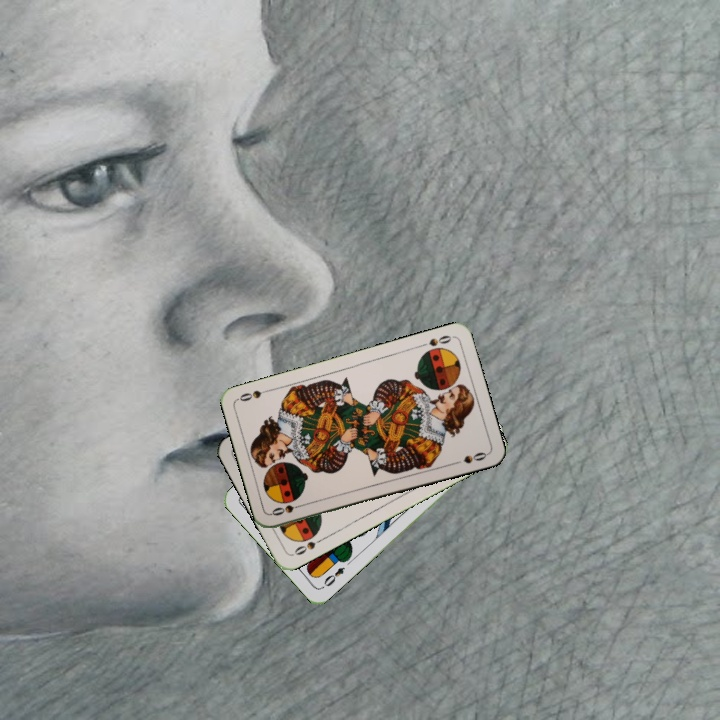EO: (318, 563, 347, 591)
SO: (290, 534, 326, 558), (268, 499, 308, 518), (416, 331, 456, 350)
